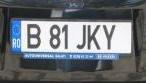1: (61, 24, 70, 50)
8: (48, 24, 61, 50)
B: (26, 23, 42, 49)
J: (76, 24, 87, 50)
K: (87, 24, 102, 50)
Y: (102, 24, 116, 50)
